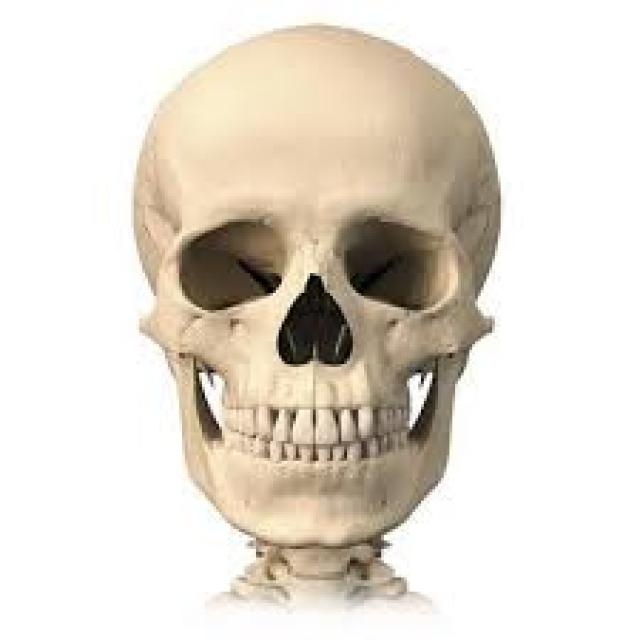skull: (120, 13, 535, 582)
